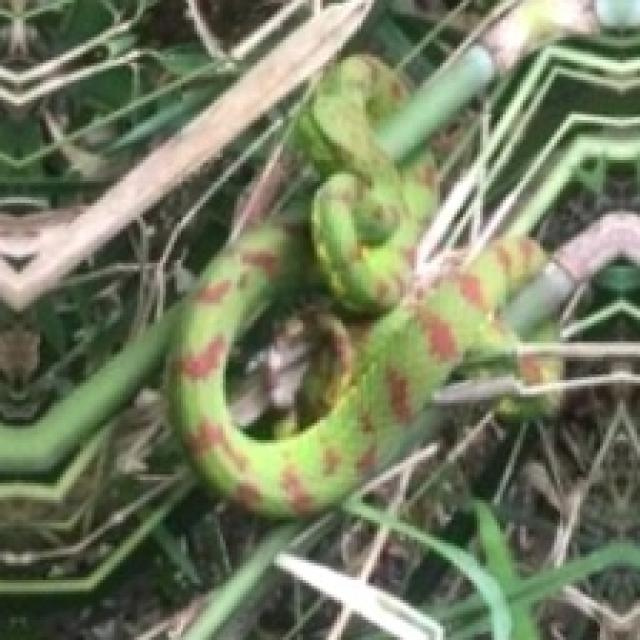philippine pitviper: (169, 57, 543, 514), (223, 263, 380, 440)
